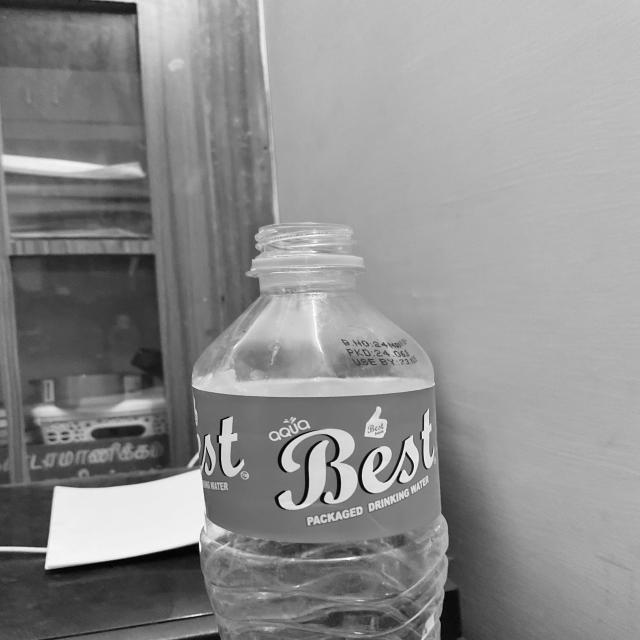open-cap: (249, 218, 369, 272)
